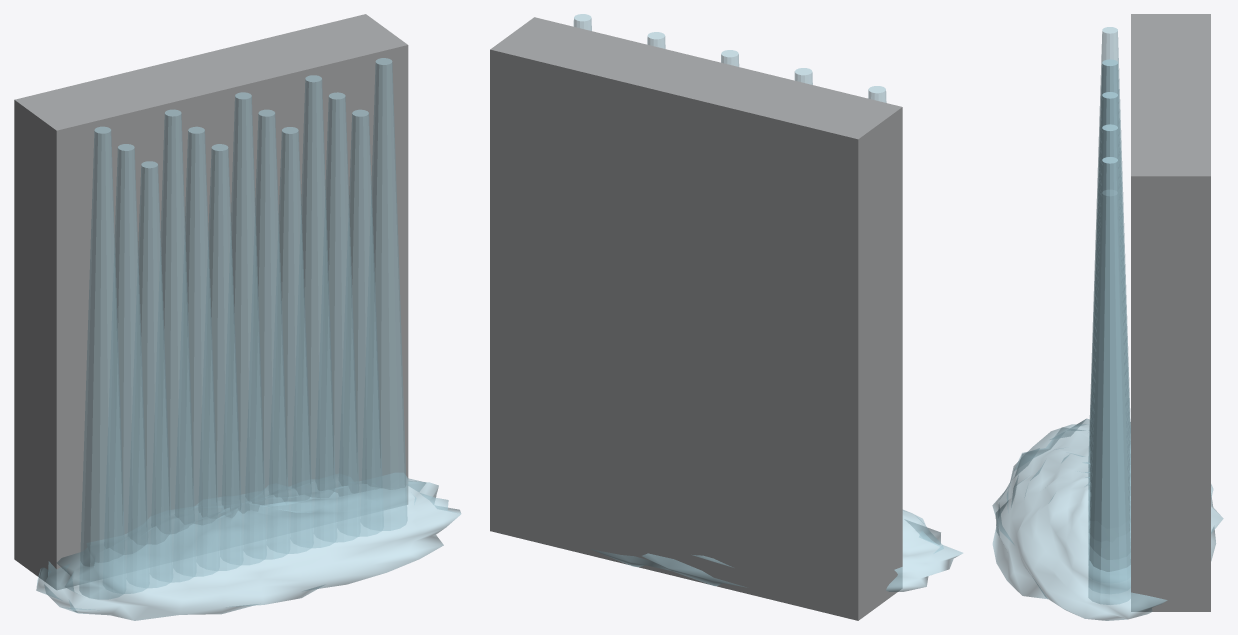
Rendered from alpine-and-arctic-biomes-frozen-waterfall-fb3dcd84__21049.glb.
3 renders of one model, left to right at view 1: azimuth 30°, elevation 25°; view 2: azimuth 150°, elevation 25°; view 3: azimuth 270°, elevation 25°, orthographic. The views are drawn at different scales.
Visible parts, largest first — view 1: frozen-waterfall; view 2: frozen-waterfall; view 3: frozen-waterfall.
Part boxes in pixels (box(x1,y1,x2,y2)): frozen-waterfall: box(14, 14, 461, 620); frozen-waterfall: box(490, 14, 962, 620); frozen-waterfall: box(992, 14, 1223, 620).
Size of the model in its own units: 2.76 by 3 by 1.44.
